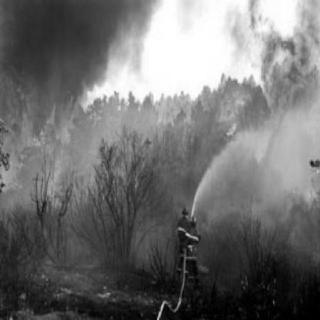Fire: (241, 0, 317, 168)
Smoke: (6, 3, 146, 97)
